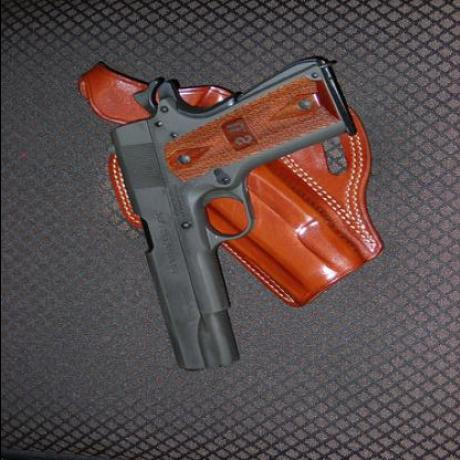weapon: (92, 45, 358, 377)
